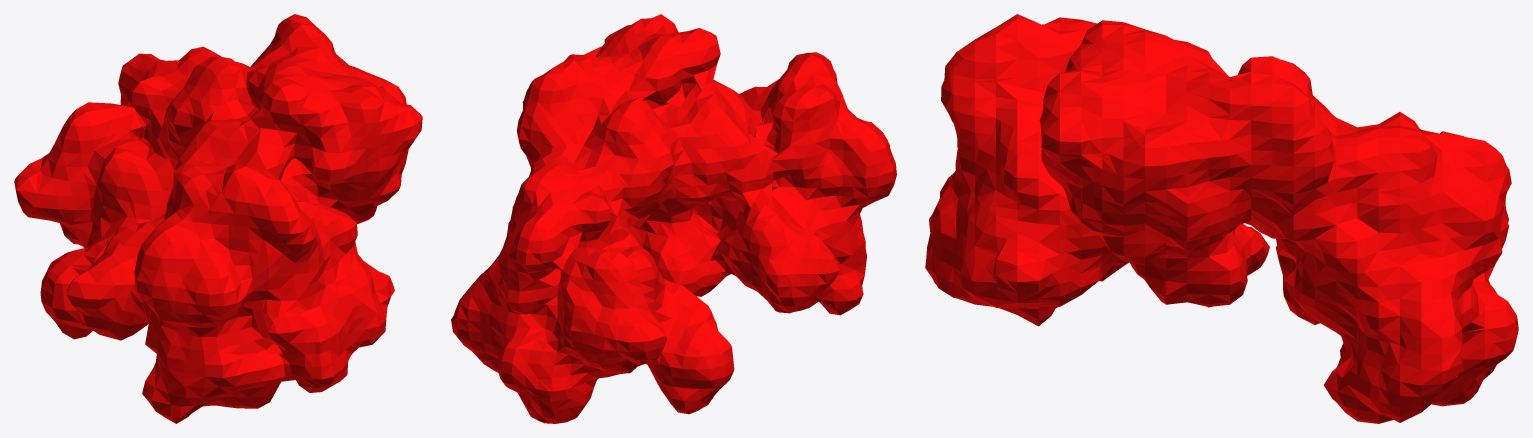
The model's file is malQ_coarse.dae.
3 renders of one model, left to right at view 1: azimuth 30°, elevation 25°; view 2: azimuth 150°, elevation 25°; view 3: azimuth 270°, elevation 25°, orthographic. The views are drawn at different scales.
Visible parts, largest first — view 1: malQ; view 2: malQ; view 3: malQ.
Boxes of the visible parts, x1=… form: malQ: x1=14, y1=14, x2=422, y2=423; malQ: x1=451, y1=14, x2=896, y2=423; malQ: x1=925, y1=14, x2=1518, y2=423.
Bounding box in the file's own units: 105 × 100 × 145.
